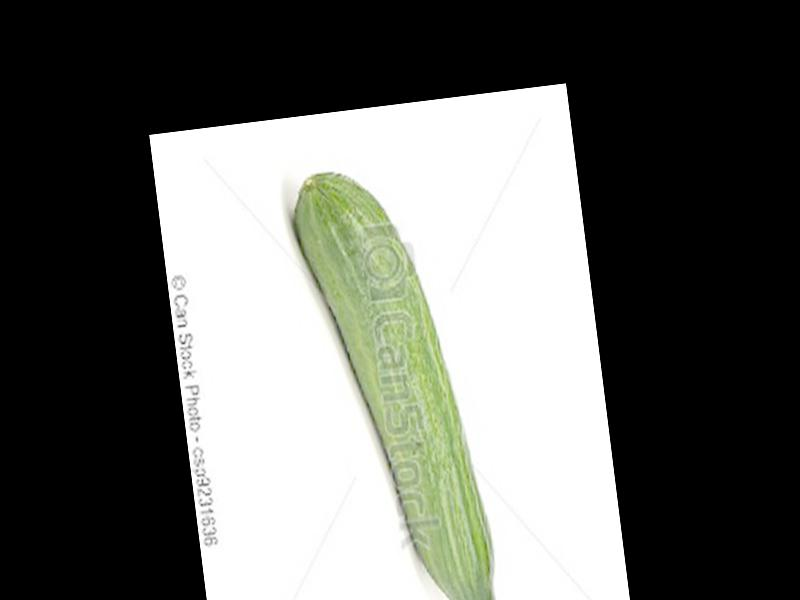Cucumber: (288, 161, 501, 600)
